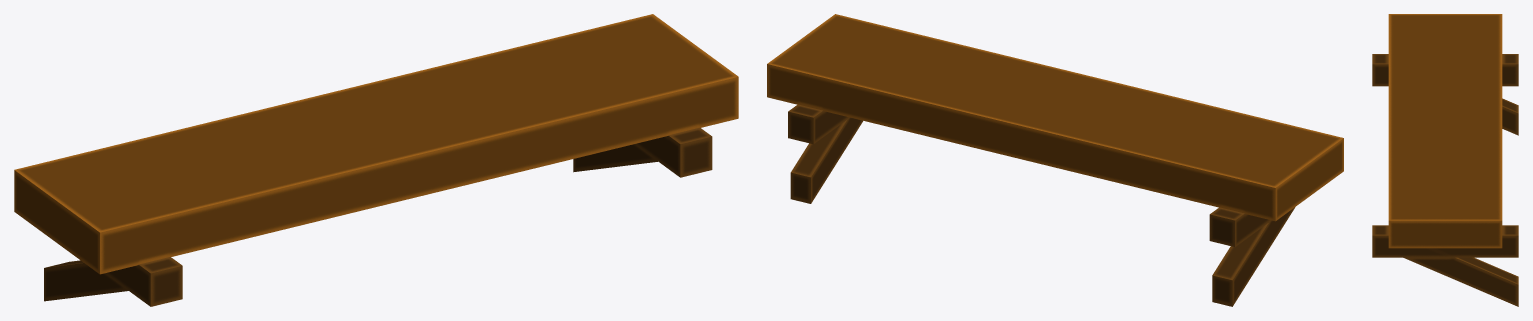
File: shelf.glb
The picture shows the model from 3 angles, left to right: view 1: azimuth 30°, elevation 25°; view 2: azimuth 150°, elevation 25°; view 3: azimuth 270°, elevation 25°; orthographic projection. The views are drawn at different scales.
Visible parts, largest first — view 1: Shelf 1; view 2: Shelf 1; view 3: Shelf 1.
Part boxes in pixels (<box>): Shelf 1: <box>14,14,738,306</box>; Shelf 1: <box>767,14,1343,306</box>; Shelf 1: <box>1372,14,1518,306</box>.
Bounding box in the file's own units: 0.7437 × 0.1677 × 0.2221.
Materials: 1 (1 with a texture image).
